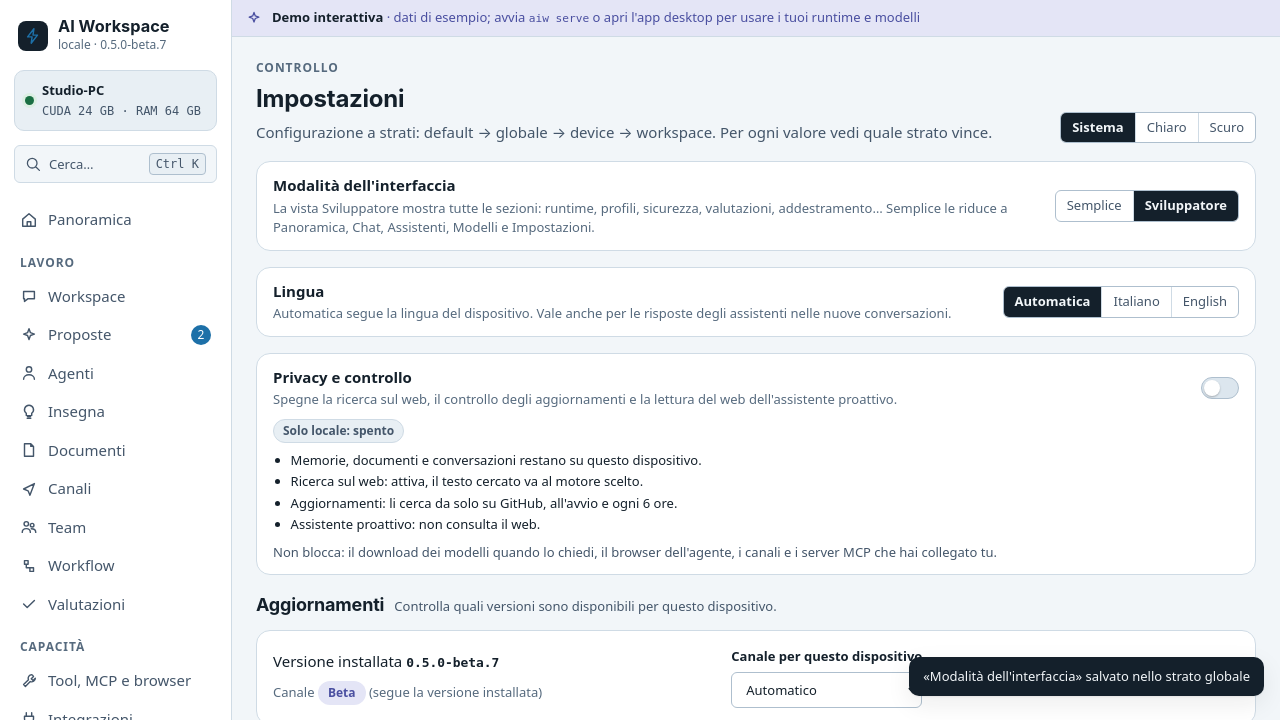
Settings view › «Solo locale» turns off web search and update checks together, and says what it does not stop
Expected: the text "Solo locale: spento" is shown, [273, 419, 404, 443]
Expected: the text "Non blocca: il download dei modelli" is shown, [273, 543, 997, 561]
Click the switch named "Solo locale" at coordinates (1220, 388), box [1201, 377, 1239, 399]
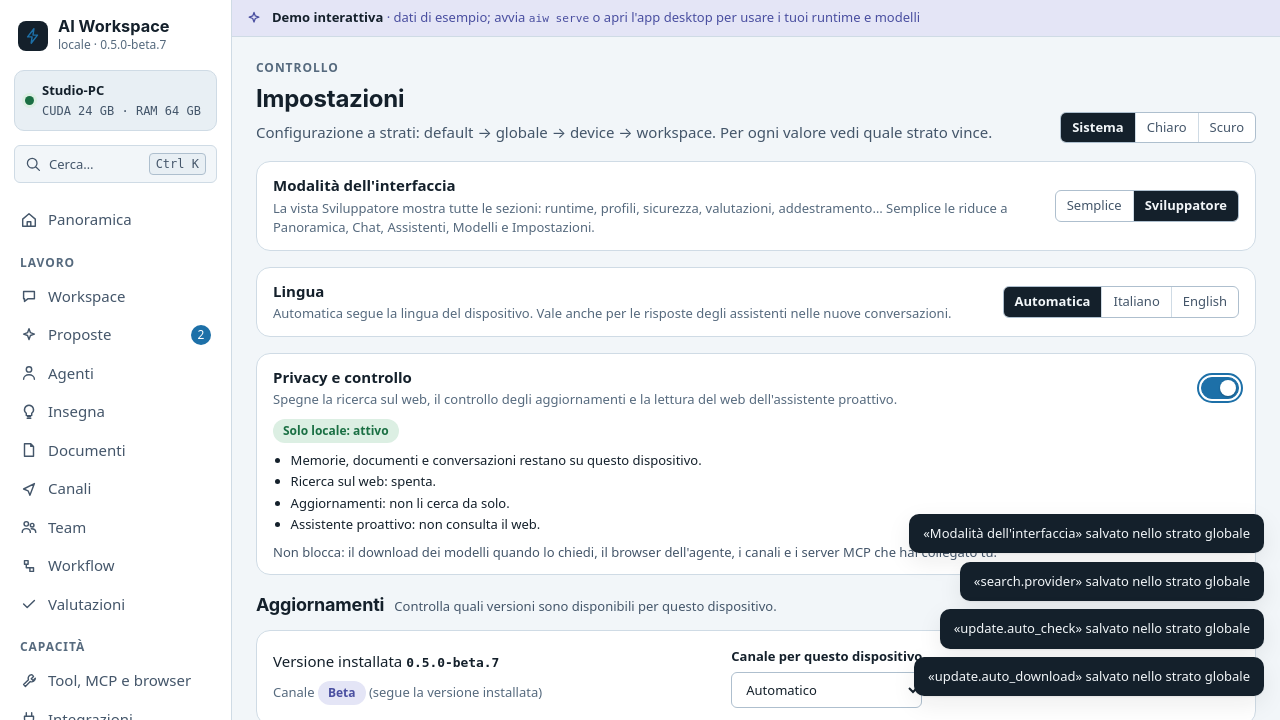
Result: the text "Solo locale: attivo" is shown at [273, 419, 399, 443]
